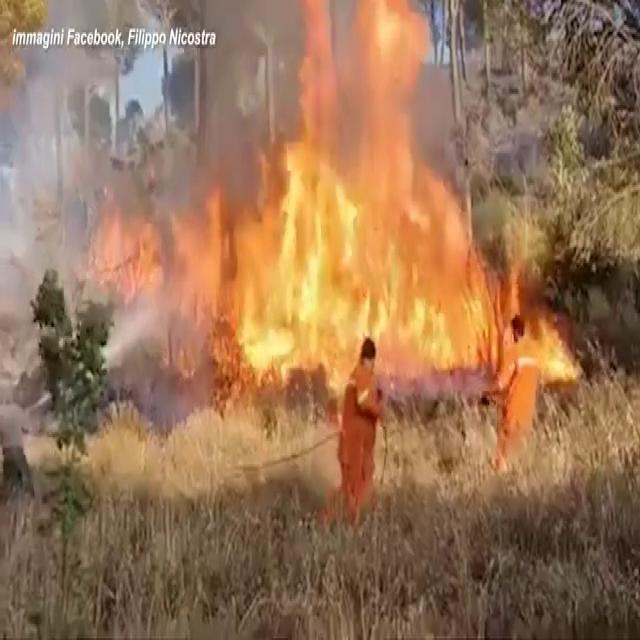Fire: (97, 2, 503, 408)
